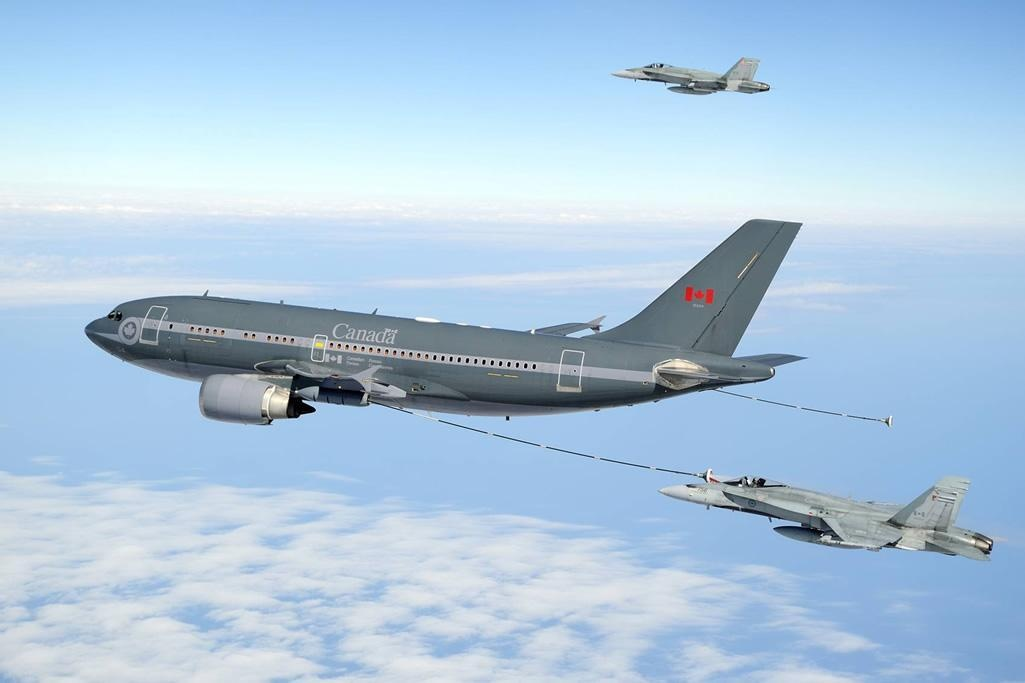airplane: (83, 217, 785, 428), (656, 457, 996, 573), (607, 52, 776, 99)
